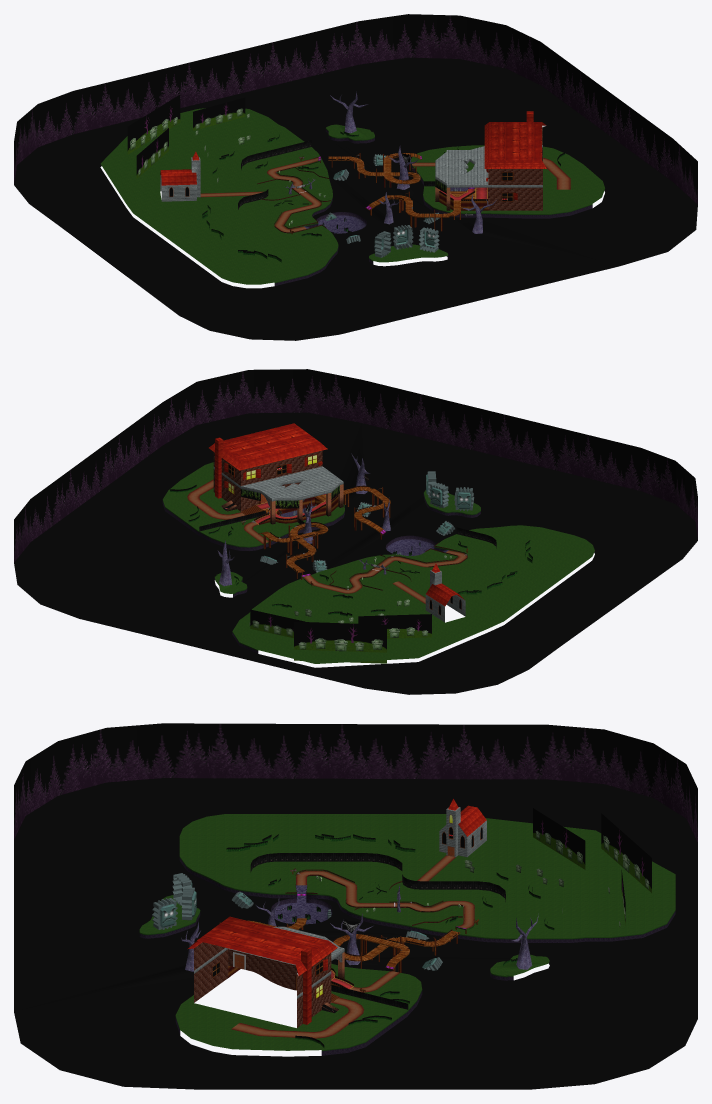
3 views of the same model, one above another, from view 1: azimuth 30°, elevation 25°; view 2: azimuth 150°, elevation 25°; view 3: azimuth 270°, elevation 25° (orthographic). The views are drawn at different scales.
Parts seen in each view (by area): view 1: AB_Main-blk, AB_Main-treesbg, AB_Main-grass1, AB_Main-wood2, AB_Main-bgtombs, AB_Main-brickwall, AB_Main-wall, AB_Main-dirtroad1, AB_Main-material_1, AB_Main-dock, AB_Main-rockwall, AB_Main-tree_bark (+5 smaller); view 2: AB_Main-blk, AB_Main-treesbg, AB_Main-grass1, AB_Main-bgtombs, AB_Main-wood2, AB_Main-brickwall, AB_Main-dirtroad1, AB_Main-dock, AB_Main-wall, AB_Main-material_1, AB_Main-rockwall, AB_Main-post (+6 smaller); view 3: AB_Main-blk, AB_Main-grass1, AB_Main-treesbg, AB_Main-wood2, AB_Main-rockwall, AB_Main-dirtroad1, AB_Main-wall, AB_Main-bgtombs, AB_Main-gatetexture2, AB_Main-material_1, AB_Main-brickwall, AB_Main-dock (+5 smaller).
Boxes of the visible parts, x1=… form: AB_Main-blk: x1=14, y1=57, x2=697, y2=340; AB_Main-treesbg: x1=14, y1=14, x2=697, y2=204; AB_Main-grass1: x1=100, y1=108, x2=604, y2=284; AB_Main-wood2: x1=160, y1=111, x2=546, y2=200; AB_Main-bgtombs: x1=127, y1=94, x2=245, y2=178; AB_Main-brickwall: x1=160, y1=145, x2=542, y2=201; AB_Main-wall: x1=488, y1=127, x2=542, y2=210; AB_Main-dirtroad1: x1=200, y1=157, x2=571, y2=232; AB_Main-material_1: x1=325, y1=154, x2=460, y2=257; AB_Main-dock: x1=328, y1=153, x2=513, y2=217; AB_Main-rockwall: x1=274, y1=128, x2=592, y2=285; AB_Main-tree_bark: x1=284, y1=91, x2=497, y2=233; AB_Main-blk: x1=14, y1=412, x2=697, y2=694; AB_Main-treesbg: x1=14, y1=369, x2=697, y2=562; AB_Main-grass1: x1=163, y1=462, x2=594, y2=663; AB_Main-bgtombs: x1=250, y1=609, x2=431, y2=663; AB_Main-wood2: x1=209, y1=423, x2=464, y2=606; AB_Main-brickwall: x1=213, y1=466, x2=465, y2=622; AB_Main-dirtroad1: x1=186, y1=479, x2=467, y2=604; AB_Main-dock: x1=228, y1=454, x2=390, y2=573; AB_Main-wall: x1=213, y1=450, x2=322, y2=511; AB_Main-material_1: x1=260, y1=471, x2=474, y2=572; AB_Main-rockwall: x1=162, y1=493, x2=480, y2=653; AB_Main-post: x1=241, y1=474, x2=467, y2=586; AB_Main-blk: x1=14, y1=778, x2=697, y2=1089; AB_Main-grass1: x1=139, y1=814, x2=675, y2=1050; AB_Main-treesbg: x1=14, y1=723, x2=697, y2=842; AB_Main-wood2: x1=187, y1=799, x2=486, y2=1024; AB_Main-rockwall: x1=139, y1=856, x2=675, y2=1055; AB_Main-dirtroad1: x1=231, y1=855, x2=475, y2=1038; AB_Main-wall: x1=194, y1=942, x2=331, y2=1027; AB_Main-bgtombs: x1=533, y1=808, x2=651, y2=925; AB_Main-gatetexture2: x1=250, y1=853, x2=505, y2=1009; AB_Main-material_1: x1=152, y1=873, x2=442, y2=970; AB_Main-brickwall: x1=194, y1=807, x2=486, y2=998; AB_Main-dock: x1=212, y1=918, x2=460, y2=1007.
Bounding box in the file's own units: 234284 × 32799 × 217388.
Materials: 29 (28 with a texture image).
